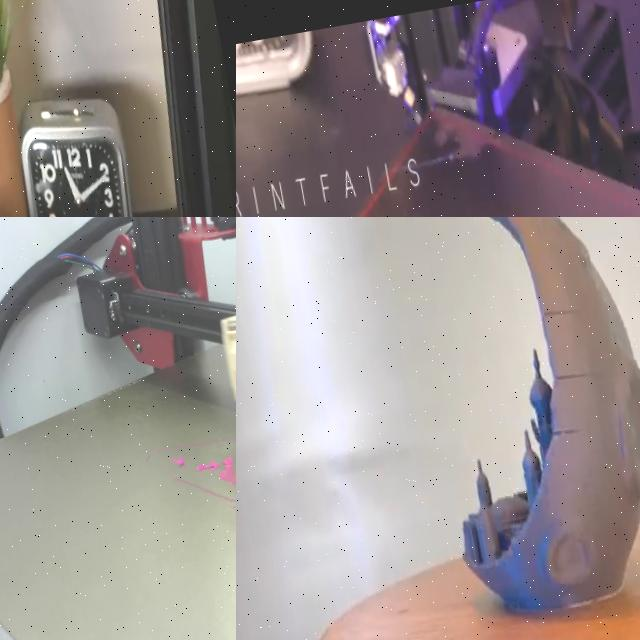spaghetti: (174, 475, 236, 506), (219, 457, 236, 492), (195, 460, 220, 475), (172, 457, 185, 466)
